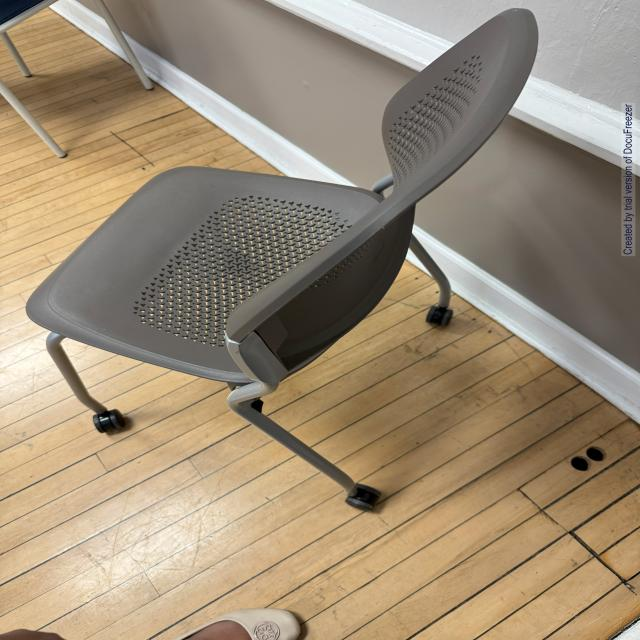chair: (36, 8, 487, 447)
